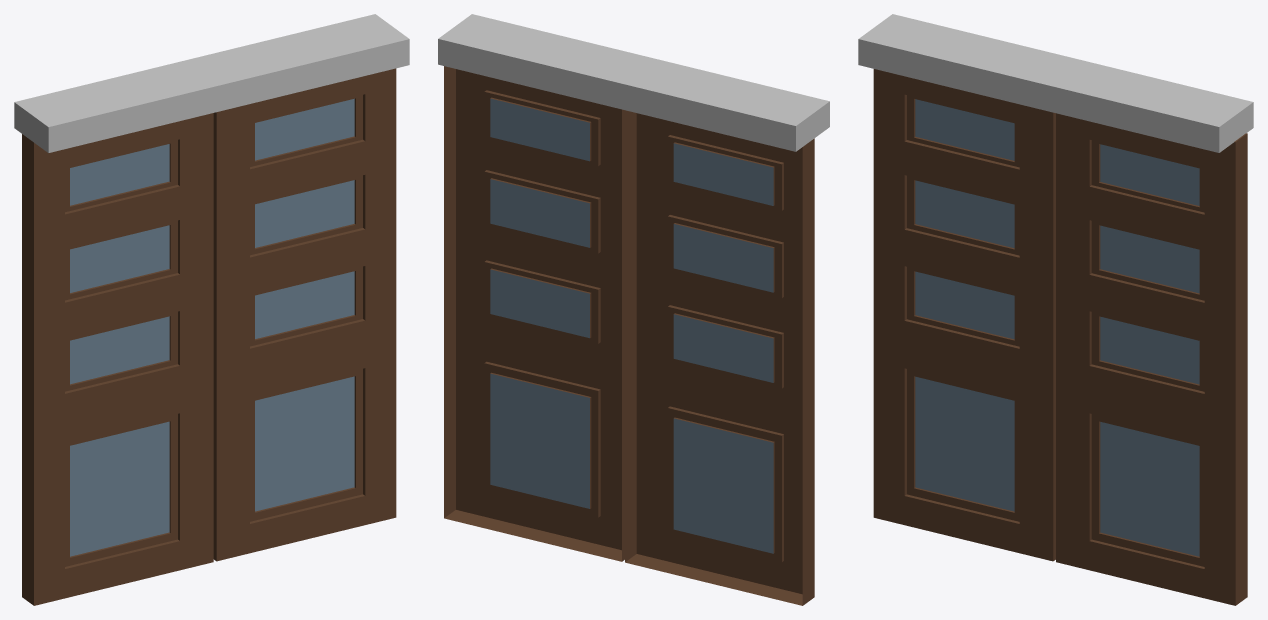
Rendered from Door_Double.glb.
3 renders of one model, left to right at view 1: azimuth 30°, elevation 25°; view 2: azimuth 150°, elevation 25°; view 3: azimuth 330°, elevation 25°, orthographic.
Visible parts, largest first — view 1: Door_Double; view 2: Door_Double; view 3: Door_Double.
Part boxes in pixels (bbox=[...]): Door_Double: bbox=[14, 14, 409, 605]; Door_Double: bbox=[438, 14, 829, 605]; Door_Double: bbox=[858, 14, 1253, 605].
Bounding box in the file's own units: 0.7496 × 0.9677 × 0.1227.
Materials: 1 (1 with a texture image).
